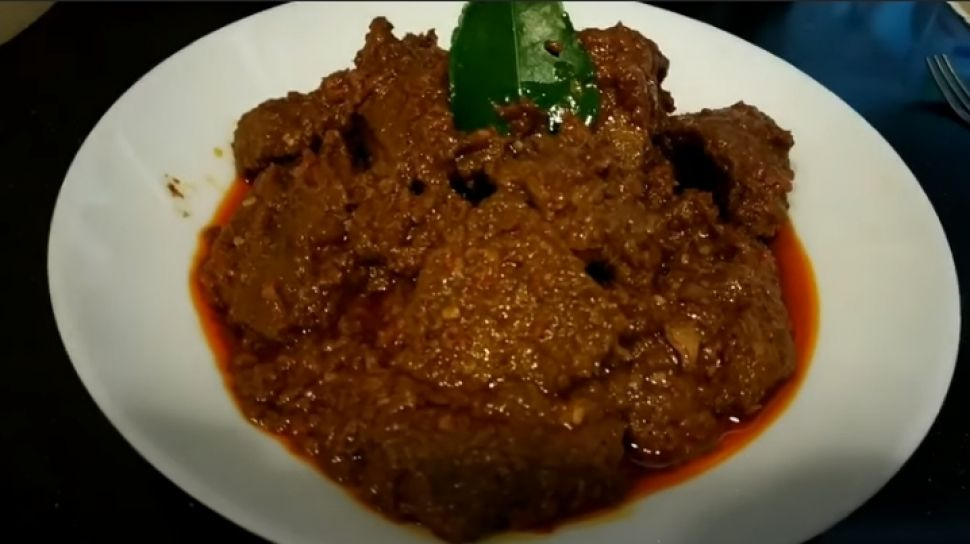rendang: (188, 11, 846, 515)
